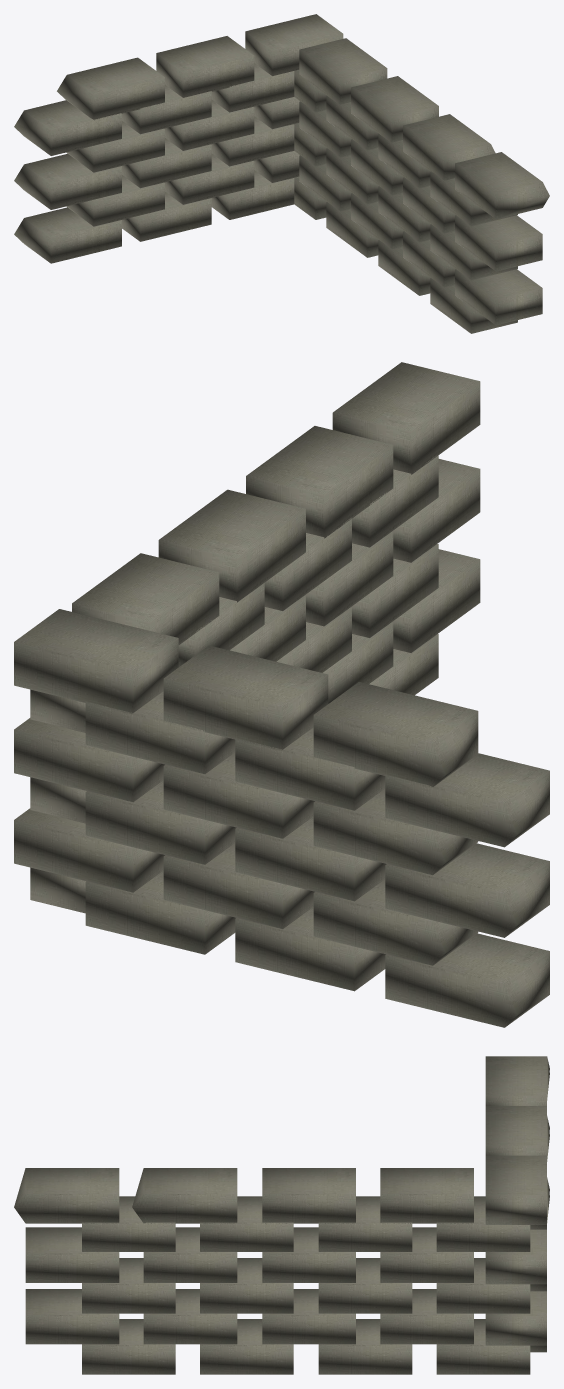
Rendered from mb-sandbag-corner.lod1.glb.
3 views of the same model, one above another, from view 1: azimuth 30°, elevation 25°; view 2: azimuth 150°, elevation 25°; view 3: azimuth 270°, elevation 25° (orthographic). The views are drawn at different scales.
Parts seen in each view (by area): view 1: Box003_Fabric_0; view 2: Box003_Fabric_0; view 3: Box003_Fabric_0.
Part boxes in pixels (left/top/right/bottom): Box003_Fabric_0: left=14, top=14, right=549, bottom=333; Box003_Fabric_0: left=14, top=362, right=549, bottom=1027; Box003_Fabric_0: left=14, top=1056, right=549, bottom=1374.
Size of the model in its own units: 1.99 by 1 by 2.68.
Materials: 1 (1 with a texture image).
